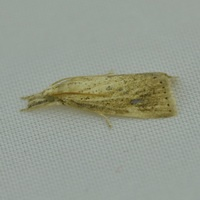insect: (21, 72, 176, 127)
